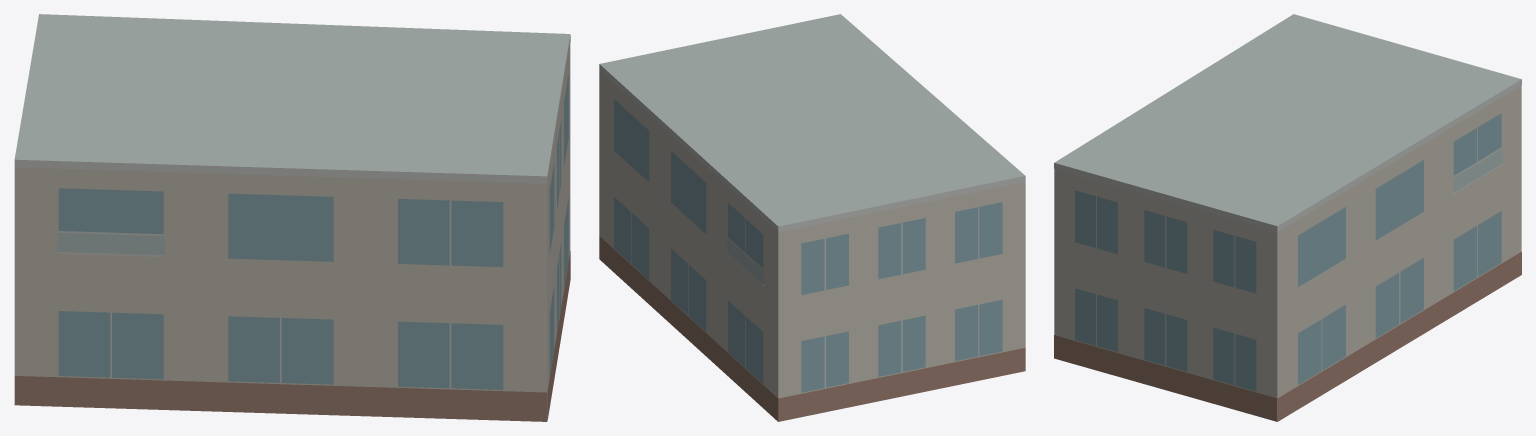
The model's file is survey-upis-32850677.glb.
The picture shows the model from 3 angles, left to right: view 1: azimuth 30°, elevation 25°; view 2: azimuth 150°, elevation 25°; view 3: azimuth 270°, elevation 25°; orthographic projection. The views are drawn at different scales.
Visible parts, largest first — view 1: survey-upis-32850677.tmp; view 2: survey-upis-32850677.tmp; view 3: survey-upis-32850677.tmp.
Part boxes in pixels (left/top/right/bottom): survey-upis-32850677.tmp: left=14, top=14, right=570, bottom=421; survey-upis-32850677.tmp: left=599, top=14, right=1025, bottom=421; survey-upis-32850677.tmp: left=1054, top=14, right=1521, bottom=421.
Bounding box in the file's own units: 18.62 × 8 × 17.34.
